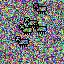sheep: (23, 16, 39, 28), (32, 3, 47, 15), (32, 23, 47, 35), (15, 36, 29, 48), (19, 24, 34, 35)
